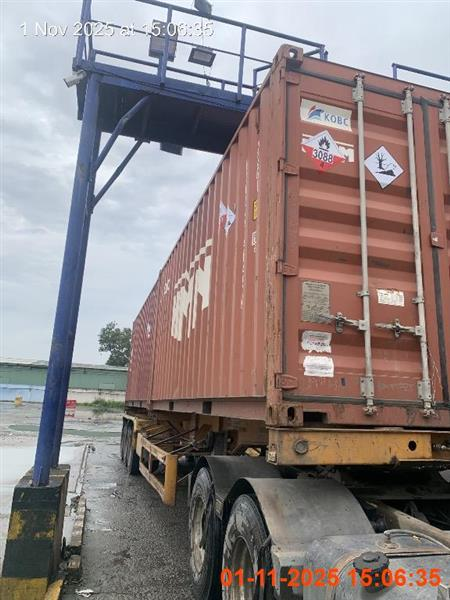crack: (117, 41, 448, 598)
